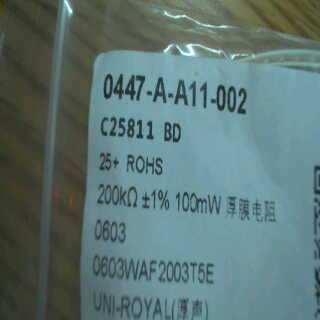200kR: (96, 178, 140, 214)
